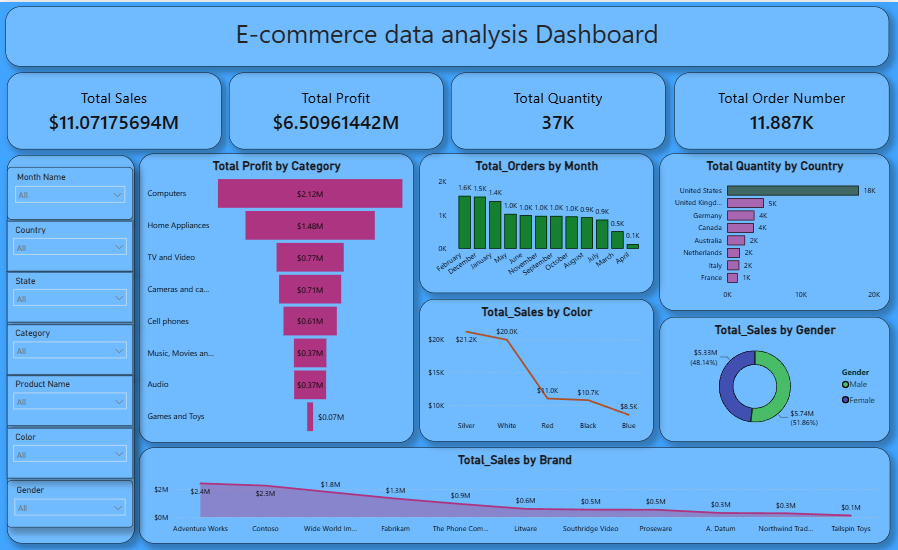

The page's visual inventory and layout, read from the dashboard file:
{"tool":"powerbi","page":{"name":"Page 1","canvas":[1500,920],"ordinal":0},"visuals":[{"type":"barChart","title":"Total Quantity by Country","fields":{"Category":["Customers_fixed.Country"],"Y":["Sum(Saless.Quantity)"]},"box":[1102.2,253,384,262],"z":0},{"type":"funnel","fields":{"Category":["Products.Category"],"Y":["Products.Total Profit"]},"box":[236.2,253,458,482],"z":1000},{"type":"donutChart","fields":{"Category":["Customers_fixed.Gender"],"Y":["Products.Total_Sales"]},"box":[1102.2,525,384,208],"z":2000},{"type":"areaChart","fields":{"Category":["Products.Brand"],"Y":["Products.Total_Sales"]},"box":[234.2,743,1252,160],"z":3000},{"type":"lineChart","fields":{"Y":["Products.Total_Sales"],"Category":["Products.Color"]},"box":[702.5,495,390,237.5],"z":4000},{"type":"columnChart","fields":{"Category":["Saless.Month Name"],"Y":["Saless.Total_Orders"]},"box":[702.5,252.5,390,232.5],"z":5000},{"type":"shape","box":[15,255,212.5,647.5],"z":6000},{"type":"slicer","fields":{"Values":["Saless.Month Name"]},"box":[14.2,275,210,88],"z":7000},{"type":"slicer","fields":{"Values":["Customers_fixed.Country"]},"box":[14.2,365,210,84],"z":8000},{"type":"slicer","fields":{"Values":["Customers_fixed.Gender"]},"box":[14.2,797,210,78],"z":9000},{"type":"slicer","fields":{"Values":["Customers_fixed.State"]},"box":[14.2,451,210,84],"z":10000},{"type":"slicer","fields":{"Values":["Products.Category"]},"box":[14.2,537,210,84],"z":11000},{"type":"slicer","fields":{"Values":["Products.Product Name"]},"box":[14.2,623,210,84],"z":12000},{"type":"slicer","fields":{"Values":["Products.Color"]},"box":[14.2,709,210,84],"z":13000},{"type":"cardVisual","fields":{"Data":["Products.Total_Sales"]},"box":[14.2,117,357,128],"z":14000},{"type":"cardVisual","fields":{"Data":["Products.Total Profit"]},"box":[384.2,117,357,128],"z":15000},{"type":"cardVisual","fields":{"Data":["Sum(Saless.Quantity)"]},"box":[756.2,117,357,128],"z":16000},{"type":"cardVisual","fields":{"Data":["CountNonNull(Saless.Order Number)"]},"box":[1128.2,117,358,128],"z":17000},{"type":"textbox","box":[12.5,7.5,1472.5,100],"z":18000}]}

Visuals, with their boxes in screenshot pixels (x1, y1, x2, y2), scaled from the page's 1500x920 canvas onto the 898x550 screenshot:
"Total Quantity by Country" barChart: [left=660, top=151, right=890, bottom=308]
funnel - Products.Category x Products.Total Profit: [left=141, top=151, right=416, bottom=439]
donutChart - Customers_fixed.Gender x Products.Total_Sales: [left=660, top=314, right=890, bottom=438]
areaChart - Products.Brand x Products.Total_Sales: [left=140, top=444, right=890, bottom=540]
lineChart - Products.Total_Sales x Products.Color: [left=421, top=296, right=654, bottom=438]
columnChart - Saless.Month Name x Saless.Total_Orders: [left=421, top=151, right=654, bottom=290]
shape: [left=9, top=152, right=136, bottom=540]
slicer - Saless.Month Name: [left=9, top=164, right=134, bottom=217]
slicer - Customers_fixed.Country: [left=9, top=218, right=134, bottom=268]
slicer - Customers_fixed.Gender: [left=9, top=476, right=134, bottom=523]
slicer - Customers_fixed.State: [left=9, top=270, right=134, bottom=320]
slicer - Products.Category: [left=9, top=321, right=134, bottom=371]
slicer - Products.Product Name: [left=9, top=372, right=134, bottom=423]
slicer - Products.Color: [left=9, top=424, right=134, bottom=474]
cardVisual - Products.Total_Sales: [left=9, top=70, right=222, bottom=146]
cardVisual - Products.Total Profit: [left=230, top=70, right=444, bottom=146]
cardVisual - Sum(Saless.Quantity): [left=453, top=70, right=666, bottom=146]
cardVisual - CountNonNull(Saless.Order Number): [left=675, top=70, right=890, bottom=146]
textbox: [left=7, top=4, right=889, bottom=64]
